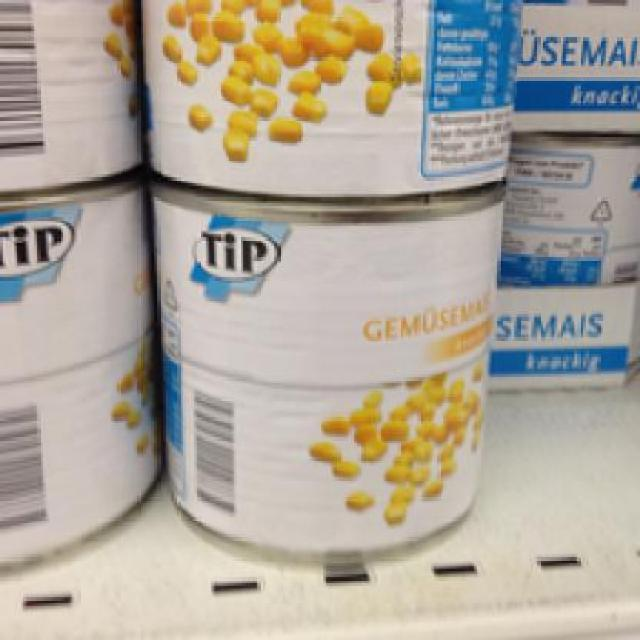Corn: (148, 183, 506, 572), (134, 0, 517, 189)
